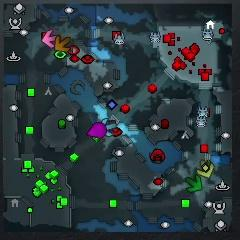p3: (87, 123, 106, 137)
x1: (41, 30, 56, 48)
x2: (197, 159, 215, 178)
x3: (102, 119, 116, 136)
x4: (185, 175, 202, 192)
x5: (54, 36, 71, 52)
